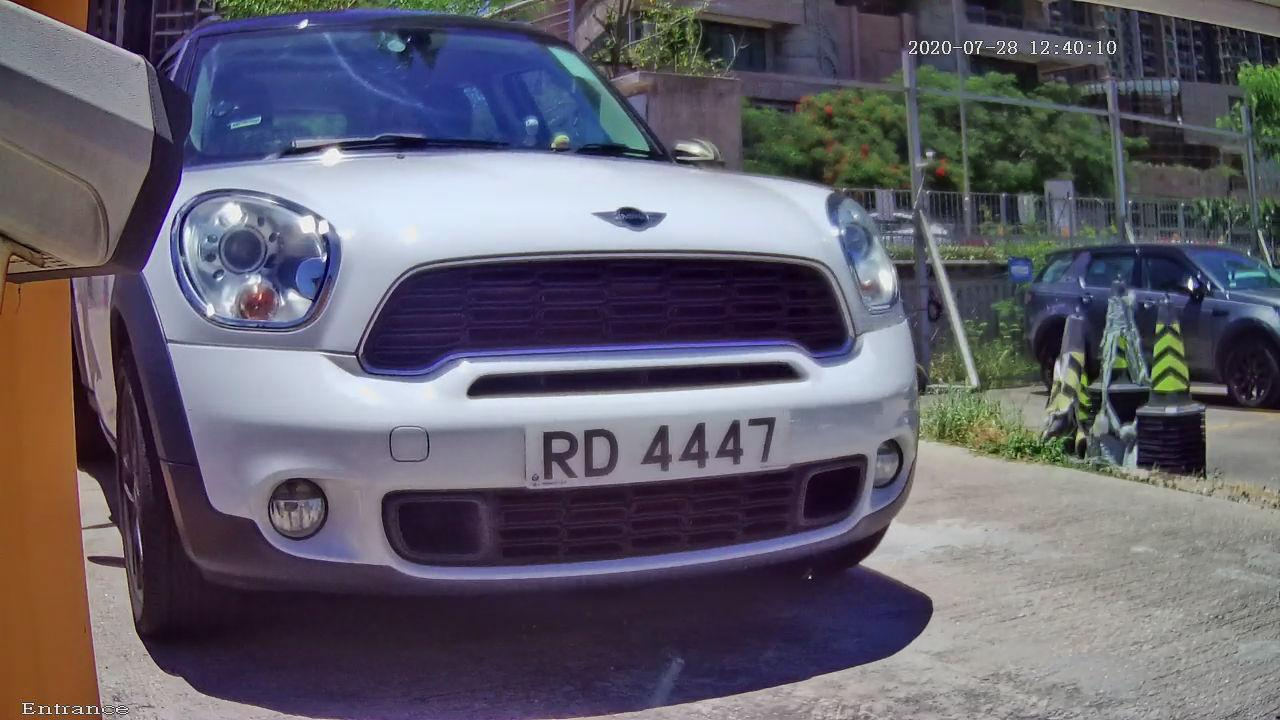privatecar: (58, 29, 1012, 688)
